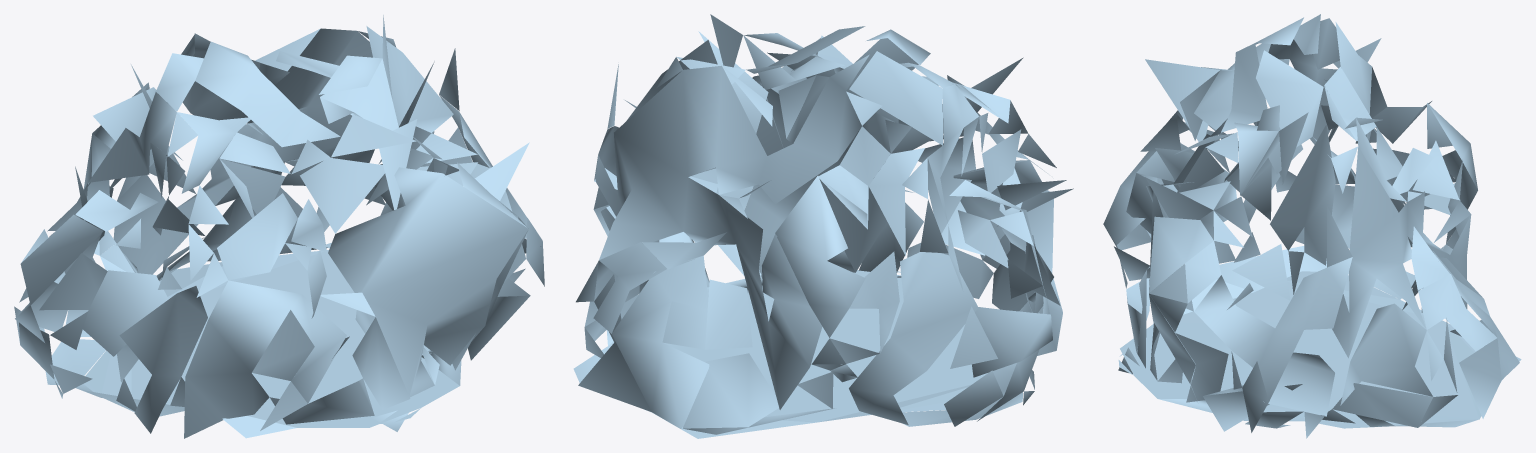
File: iceberg-lod1.glb
The picture shows the model from 3 angles, left to right: view 1: azimuth 30°, elevation 25°; view 2: azimuth 150°, elevation 25°; view 3: azimuth 270°, elevation 25°; orthographic projection. The views are drawn at different scales.
Parts seen in each view (by area): view 1: iceberg; view 2: iceberg; view 3: iceberg.
Boxes of the visible parts, x1,y1,x2,y2 form: iceberg: (14,15,544,438); iceberg: (573,14,1073,438); iceberg: (1103,14,1521,438).
Size of the model in its own units: 20.66 by 13.85 by 16.59.
